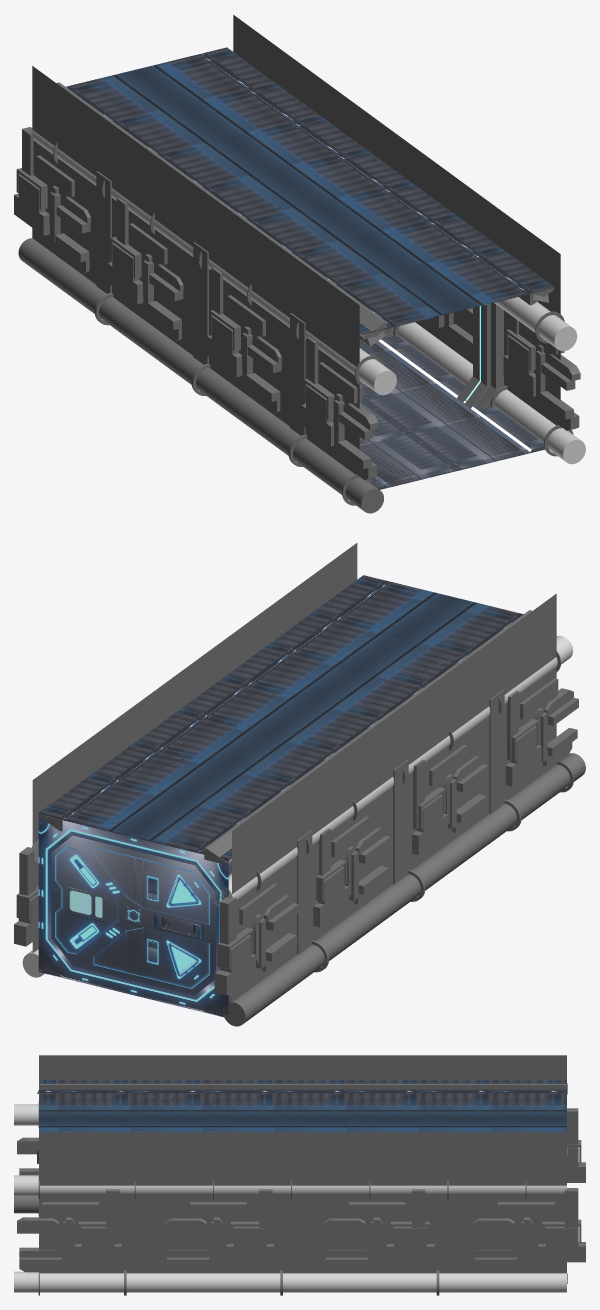
3 renders of one model, top to bottom at view 1: azimuth 30°, elevation 25°; view 2: azimuth 150°, elevation 25°; view 3: azimuth 270°, elevation 25°, orthographic. The views are drawn at different scales.
Visible parts, largest first — view 1: Object002_Material #43_0, Object003_03 - Default_0, Object004_03 - Default_0, Object001_01 - Default_0, Cylinder004, Cylinder003, Cylinder002, Rectangle001_01 - Default_0, Box022, Cylinder001, Rectangle006_03 - Default_0, Box031 (+12 smaller); view 2: Object002_Material #43_0, Object003_03 - Default_0, Box001_Material #2121232574_0, Object004_03 - Default_0, Cylinder004, Cylinder002, Box031, Box034, Box035, Rectangle006_03 - Default_0, Rectangle011, Rectangle024 (+11 smaller); view 3: Object004_03 - Default_0, Object002_Material #43_0, Object003_03 - Default_0, Cylinder003, Cylinder001, Rectangle006_03 - Default_0, Rectangle028, Rectangle030, Rectangle032, Rectangle026, Box092, Box107 (+26 smaller).
Boxes of the visible parts, bbox=[...] form: Object002_Material #43_0: bbox=[66, 47, 554, 334]; Object003_03 - Default_0: bbox=[32, 66, 359, 474]; Object004_03 - Default_0: bbox=[233, 15, 560, 425]; Object001_01 - Default_0: bbox=[359, 339, 548, 489]; Cylinder004: bbox=[18, 238, 383, 513]; Cylinder003: bbox=[397, 322, 585, 464]; Cylinder002: bbox=[31, 130, 396, 395]; Rectangle001_01 - Default_0: bbox=[381, 336, 548, 451]; Box022: bbox=[457, 303, 490, 408]; Cylinder001: bbox=[494, 297, 577, 351]; Rectangle006_03 - Default_0: bbox=[56, 82, 386, 339]; Box031: bbox=[193, 242, 208, 364]; Object002_Material #43_0: bbox=[39, 575, 523, 860]; Object003_03 - Default_0: bbox=[232, 593, 556, 1001]; Box001_Material #2121232574_0: bbox=[38, 813, 228, 1018]; Object004_03 - Default_0: bbox=[32, 543, 357, 952]; Cylinder004: bbox=[223, 753, 585, 1026]; Cylinder002: bbox=[210, 635, 573, 907]; Box031: bbox=[393, 760, 408, 884]; Box034: bbox=[297, 830, 312, 954]; Box035: bbox=[489, 689, 504, 813]; Rectangle006_03 - Default_0: bbox=[204, 610, 531, 865]; Rectangle011: bbox=[214, 935, 255, 995]; Rectangle024: bbox=[505, 726, 541, 786]; Object004_03 - Default_0: bbox=[39, 1132, 566, 1273]; Object002_Material #43_0: bbox=[39, 1080, 566, 1132]; Object003_03 - Default_0: bbox=[39, 1055, 566, 1079]; Cylinder003: bbox=[14, 1271, 566, 1292]; Cylinder001: bbox=[14, 1175, 566, 1196]; Rectangle006_03 - Default_0: bbox=[39, 1083, 567, 1094]; Rectangle028: bbox=[538, 1226, 585, 1262]; Rectangle030: bbox=[226, 1226, 274, 1262]; Rectangle032: bbox=[74, 1226, 121, 1262]; Rectangle026: bbox=[387, 1226, 434, 1262]; Box092: bbox=[348, 1202, 405, 1216]; Box107: bbox=[42, 1202, 98, 1216].
Size of the model in its own units: 5.51 by 4.6 by 14.66.
8 materials, 4 textured.
